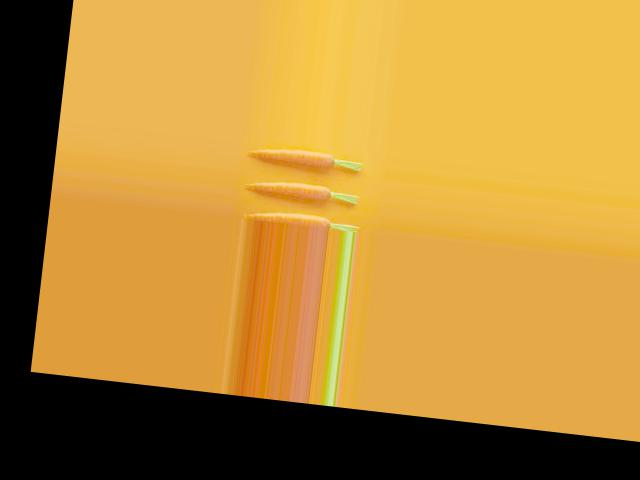carrot: (257, 208, 362, 231)
